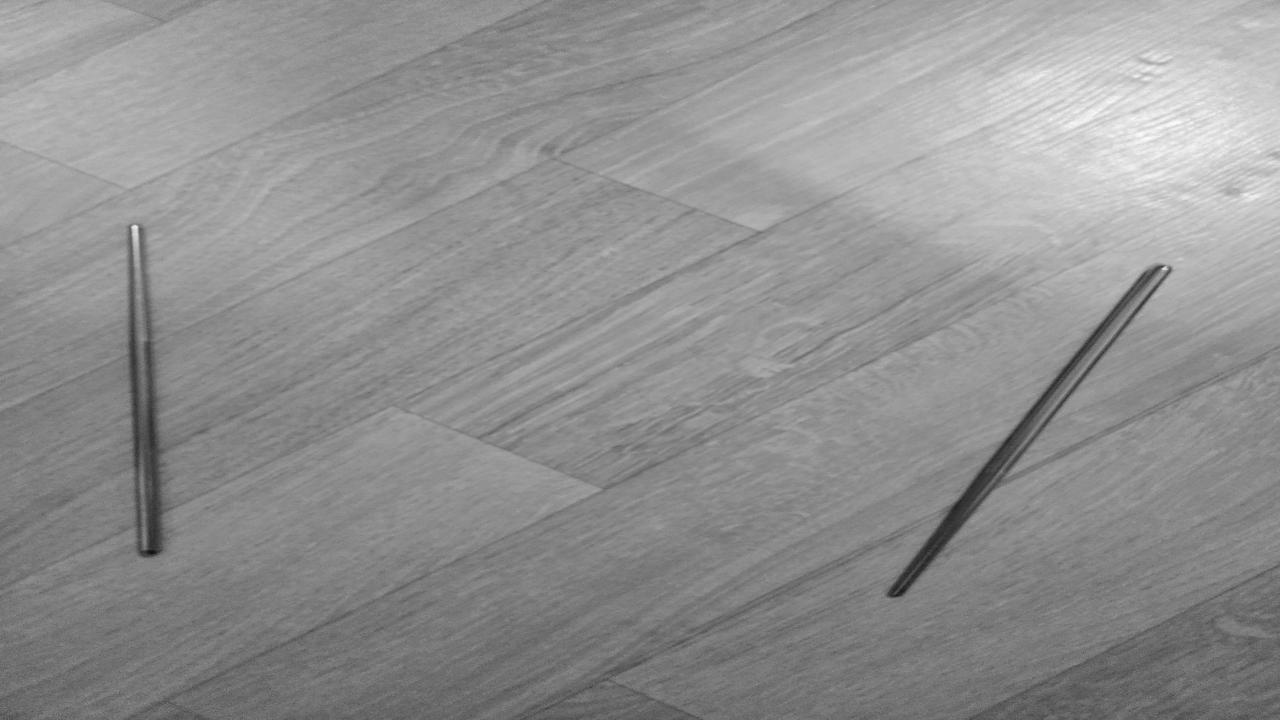chopstick: (885, 265, 1173, 597), (127, 224, 162, 554)
